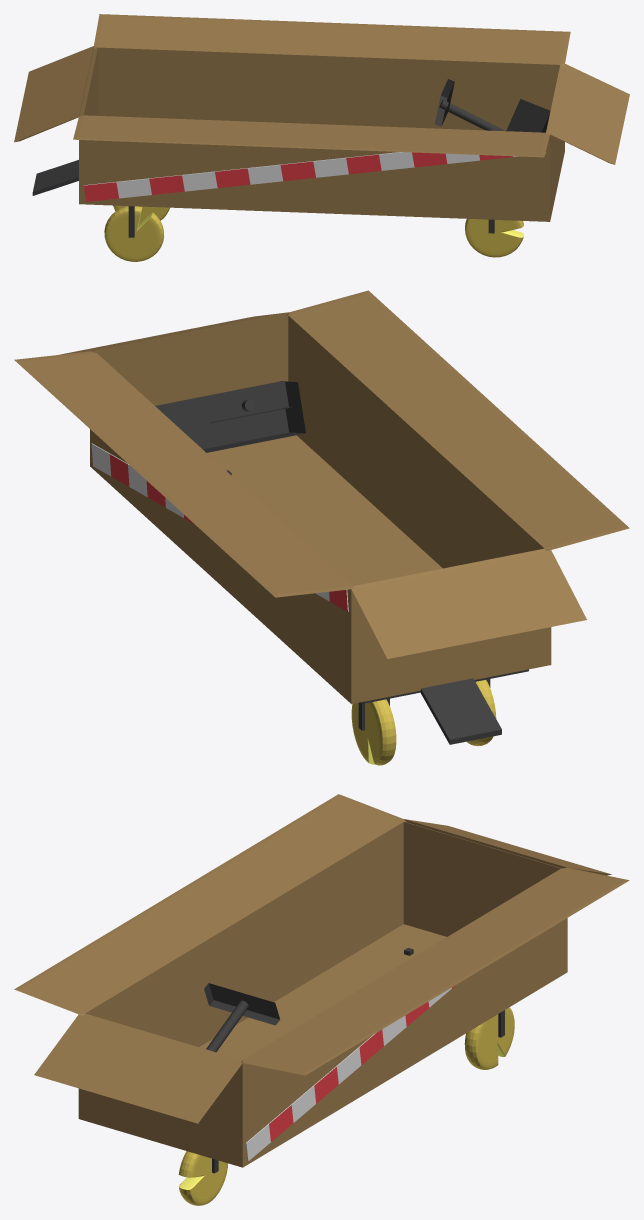
File: boxcheese.gltf
3 renders of one model, top to bottom at view 1: azimuth 30°, elevation 25°; view 2: azimuth 150°, elevation 25°; view 3: azimuth 270°, elevation 25°, orthographic. The views are drawn at different scales.
Parts seen in each view (by area): view 1: Cube.048; view 2: Cube.048; view 3: Cube.048.
Part boxes in pixels (x1=…): Cube.048: x1=14, y1=14, x2=629, y2=261; Cube.048: x1=14, y1=290, x2=629, y2=765; Cube.048: x1=14, y1=794, x2=629, y2=1205.
Bounding box in the file's own units: 12.21 × 3.76 × 10.67.
